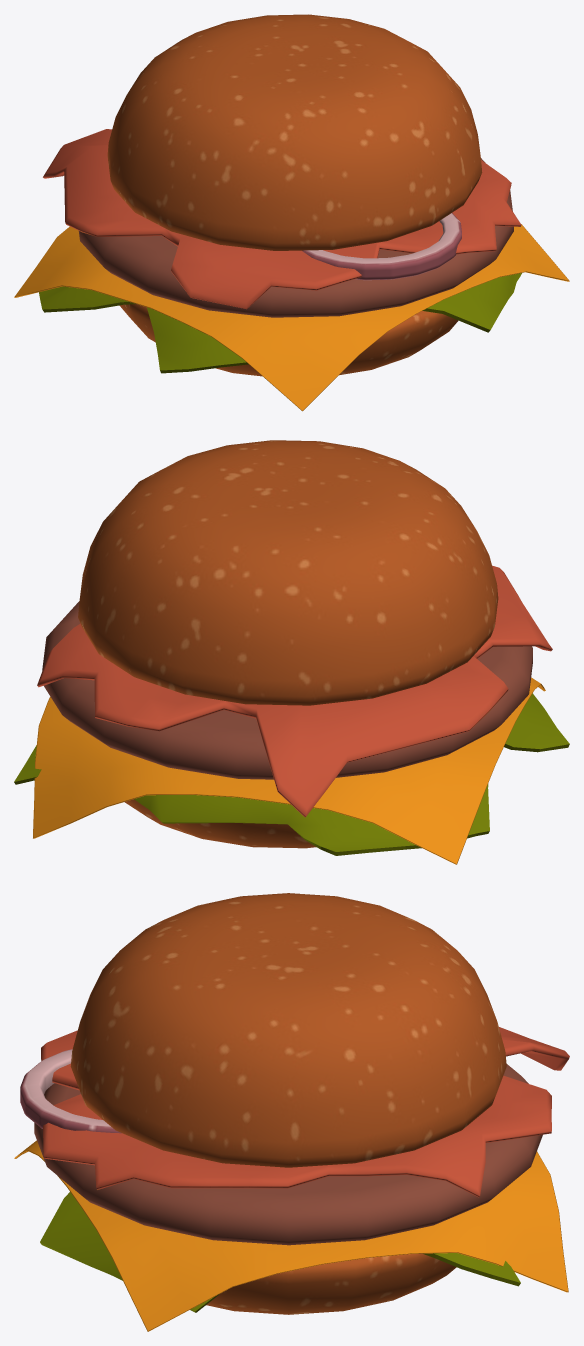
File: 3d_cheeseburger_model.glb
3 renders of one model, top to bottom at view 1: azimuth 30°, elevation 25°; view 2: azimuth 150°, elevation 25°; view 3: azimuth 270°, elevation 25°, orthographic. The views are drawn at different scales.
Parts seen in each view (by area): view 1: SM_BURGER (×6), polySurface764; view 2: SM_BURGER (×5), polySurface764; view 3: SM_BURGER (×6), polySurface764.
Part boxes in pixels (bbox=[...]): SM_BURGER (×6): bbox=[39, 14, 521, 376]; polySurface764: bbox=[14, 224, 569, 411]; SM_BURGER (×5): bbox=[14, 440, 569, 855]; polySurface764: bbox=[33, 677, 545, 864]; SM_BURGER (×6): bbox=[20, 893, 569, 1314]; polySurface764: bbox=[14, 1140, 568, 1331].
Bounding box in the file's own units: 1.37 × 0.8286 × 1.32.
1 material, 1 textured.
